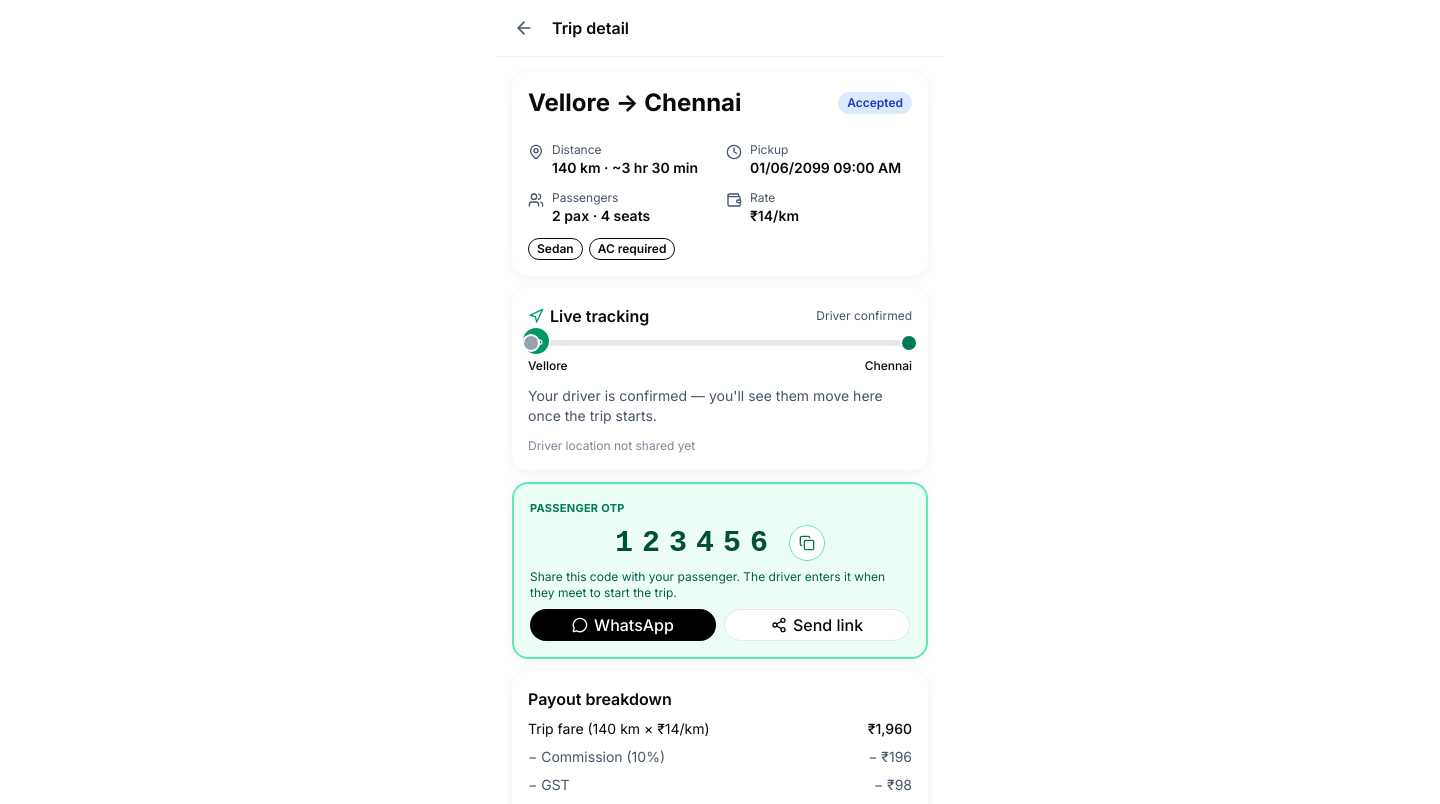
Test: TripDetailPage › lets the poster open the passenger share link once a driver is assigned
The image size is (1440, 804).
Check: the text "Passenger OTP" is shown, box [530, 501, 625, 515]
Check: the text "123456" is shown, box [615, 524, 777, 560]
Click the button "Send link" at coordinates (817, 624), box [724, 608, 910, 640]
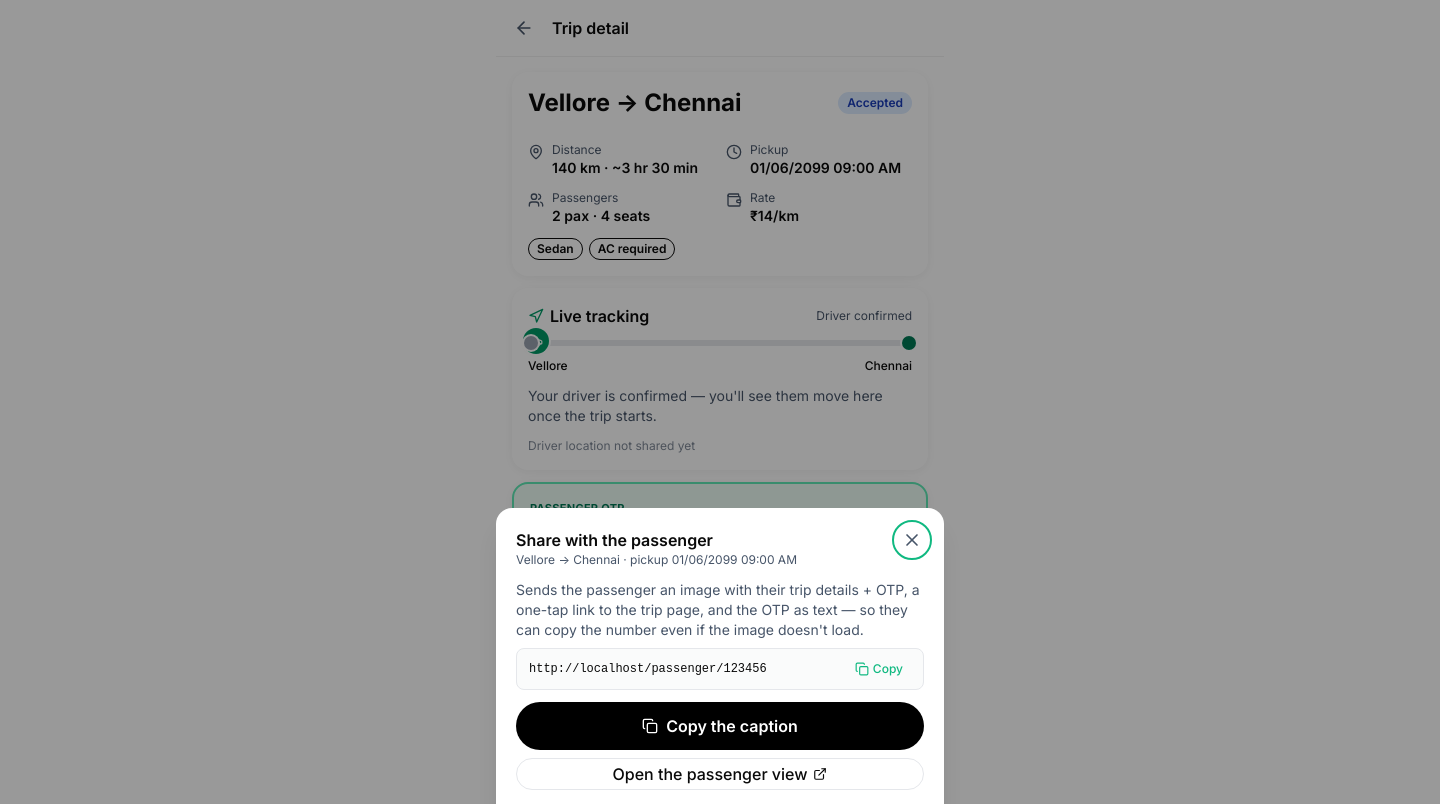
Check: the text "http://localhost/passenger/123456" is shown, box [529, 661, 767, 677]
